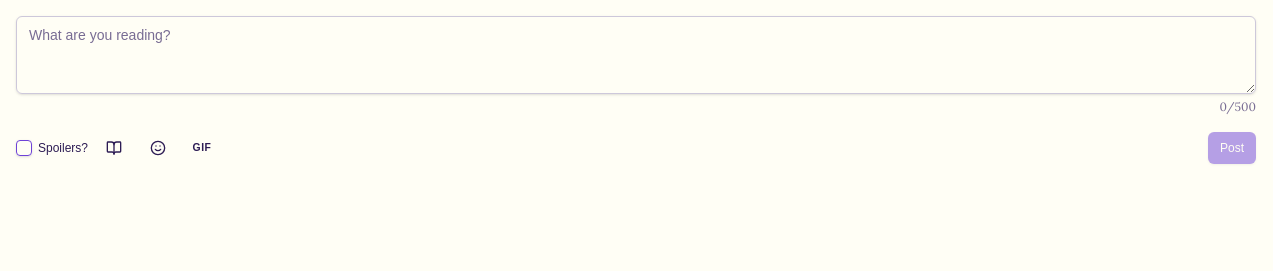
Test: PostComposer › switching to manual shows title and author fields with a back link
This screenshot has width=1273, height=271.
Click the button named "Add book": x=114, y=148 x1=96 y1=130 x2=132 y2=166
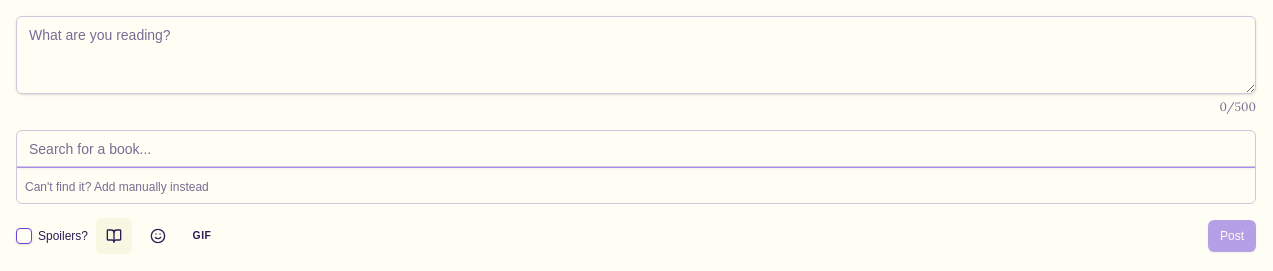
Click the button "Can't find it? Add manually instead": x=117, y=187 x1=25 y1=179 x2=209 y2=195
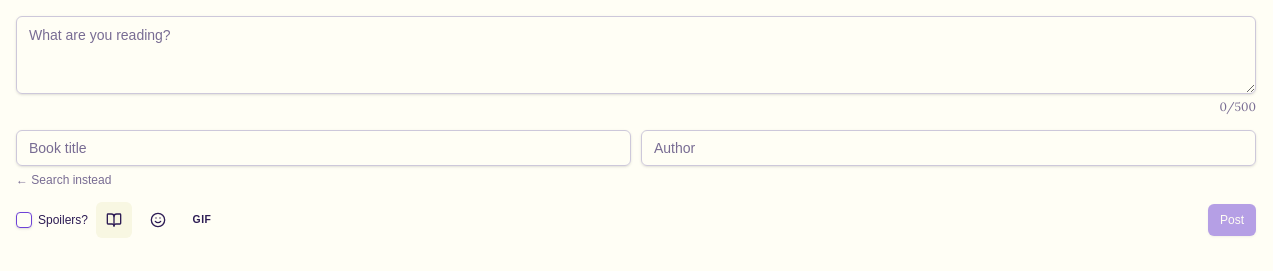
Expected: the field with placeholder "Search for a book..." is not shown
Now the field with placeholder "Book title" is shown, box x1=16 y1=130 x2=631 y2=166
Now the field with placeholder "Author" is shown, box x1=641 y1=130 x2=1256 y2=166
